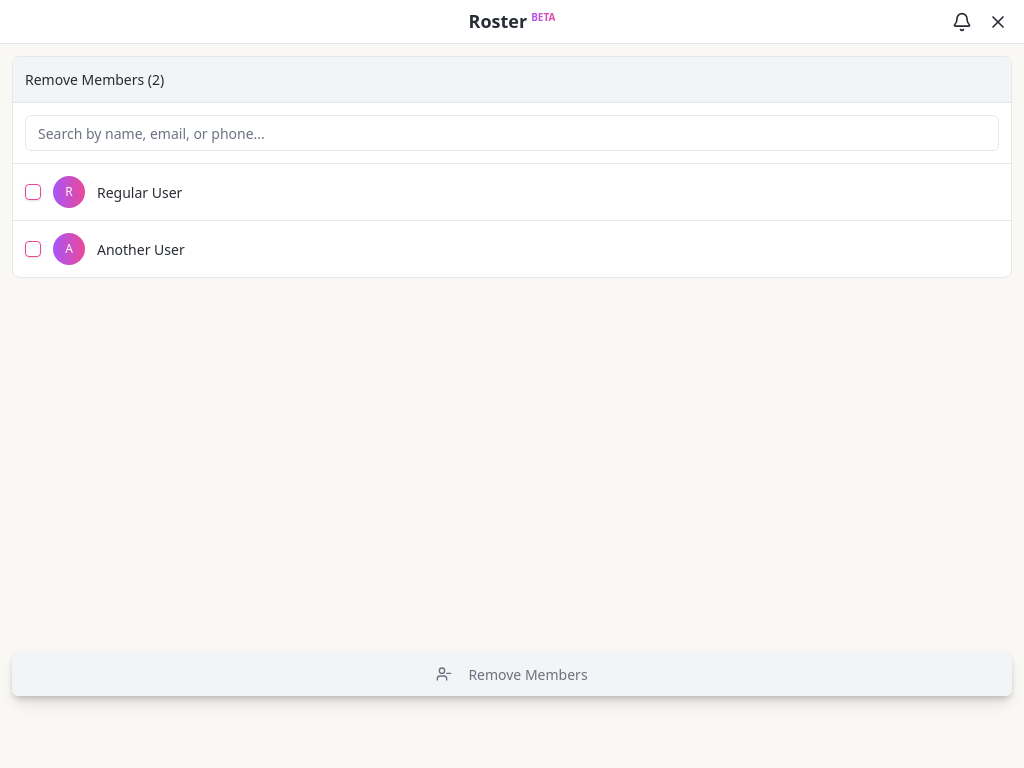
Test: RemoveMembersPage › removing members › should open confirmation dialog when remove button clicked
This screenshot has width=1024, height=768.
Expected: the text "Regular User" is shown, [97, 182, 182, 202]
Click the checkbox in the row of "Regular User" at (33, 192), box [25, 184, 41, 200]
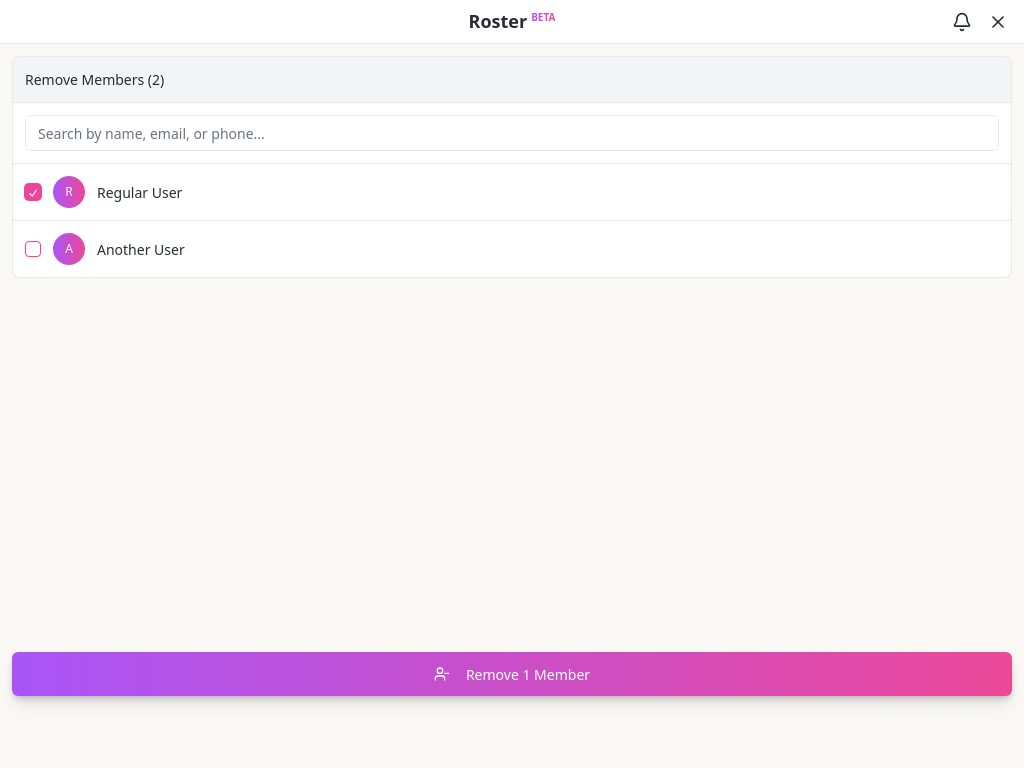
Click the button "Remove 1 Member" at (512, 674), box [12, 652, 1012, 696]
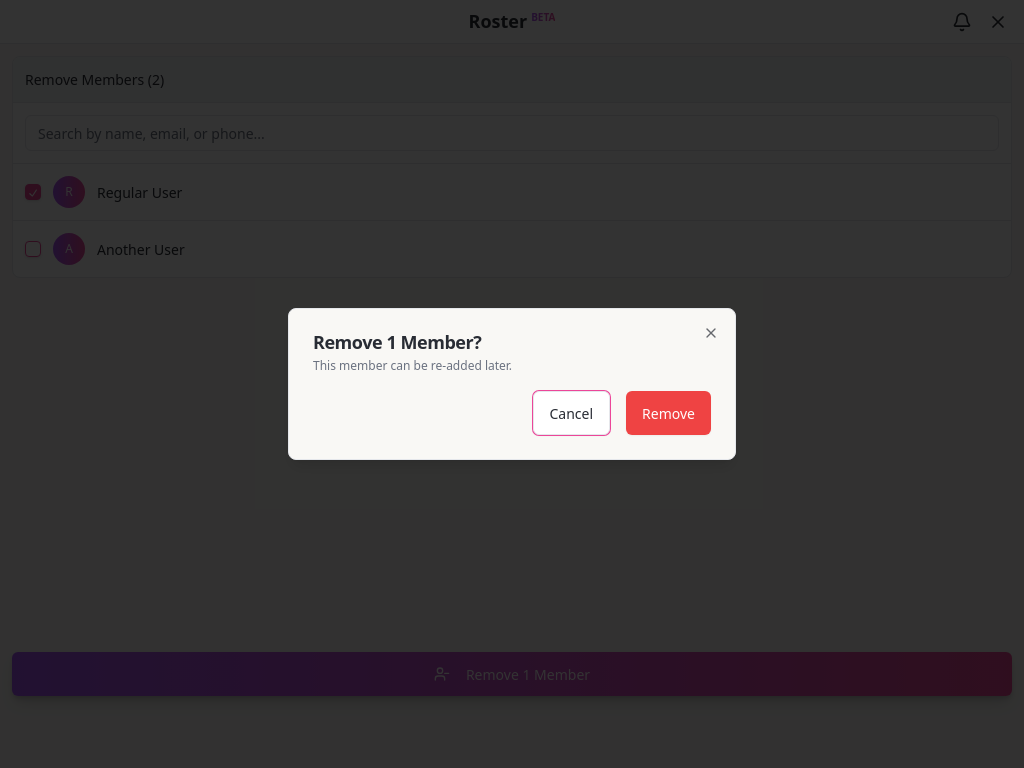
Expected: the heading "Remove 1 Member?" is shown, [313, 330, 481, 354]
